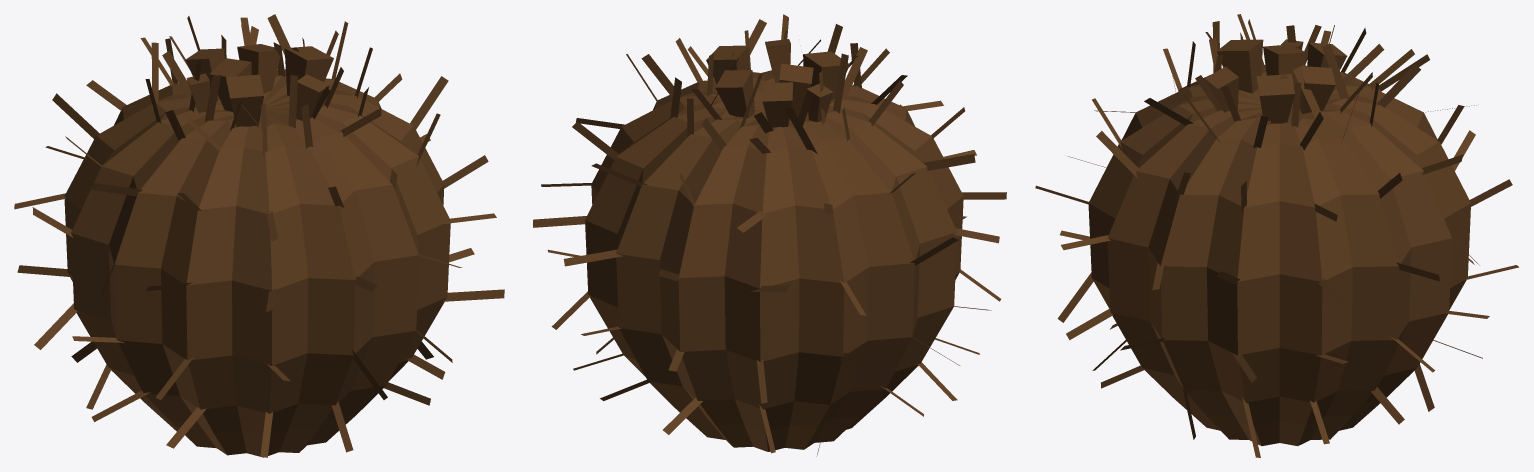
The model's file is SM_Succulent_Cactus_Round_Flowering_B.fbx.
3 renders of one model, left to right at view 1: azimuth 30°, elevation 25°; view 2: azimuth 150°, elevation 25°; view 3: azimuth 270°, elevation 25°, orthographic. The views are drawn at different scales.
Visible parts, largest first — view 1: succulent-cactus-round-flowering-b; view 2: succulent-cactus-round-flowering-b; view 3: succulent-cactus-round-flowering-b.
Boxes of the visible parts, x1,y1,x2,y2 form: succulent-cactus-round-flowering-b: (14, 14, 504, 457); succulent-cactus-round-flowering-b: (533, 14, 1006, 456); succulent-cactus-round-flowering-b: (1035, 14, 1518, 457).
Size of the model in its own units: 0.485 by 0.4195 by 0.504.
